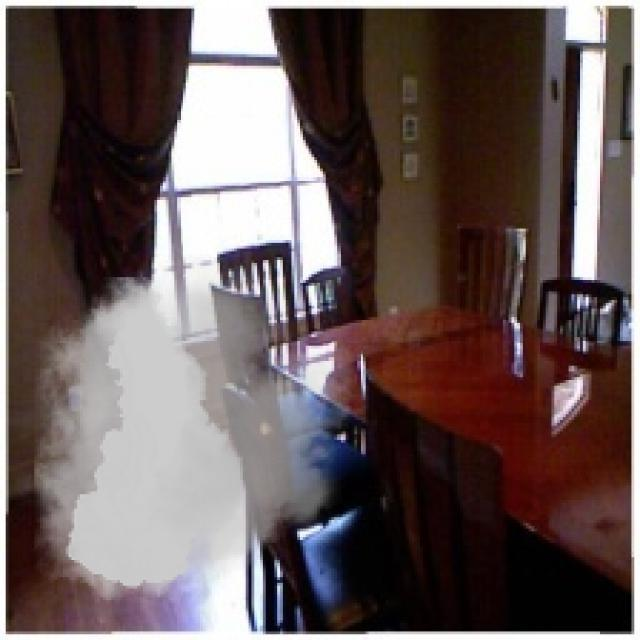Smoke: (6, 254, 374, 612)
